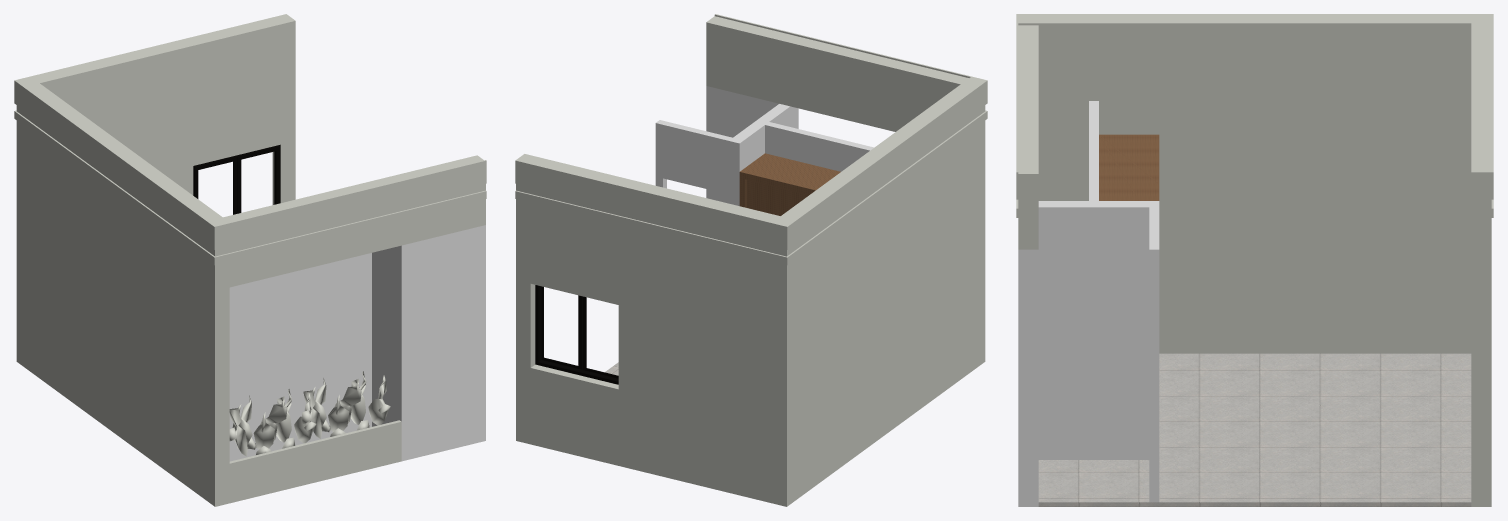
File: DESCANSO.glb
The picture shows the model from 3 angles, left to right: view 1: azimuth 30°, elevation 25°; view 2: azimuth 150°, elevation 25°; view 3: azimuth 270°, elevation 25°; orthographic projection. The views are drawn at different scales.
Parts seen in each view (by area): view 1: Diferencia; view 2: Diferencia, group_3; view 3: Diferencia, group_4, group_3.
Part boxes in pixels (bbox=[...]): Diferencia: bbox=[14, 14, 486, 506]; Diferencia: bbox=[515, 14, 987, 506]; group_3: bbox=[739, 153, 840, 215]; Diferencia: bbox=[1016, 14, 1493, 506]; group_4: bbox=[1038, 353, 1471, 506]; group_3: bbox=[1099, 134, 1159, 200].
Bounding box in the file's own units: 3.72 × 3.67 × 4.74.
4 materials, 4 textured.
